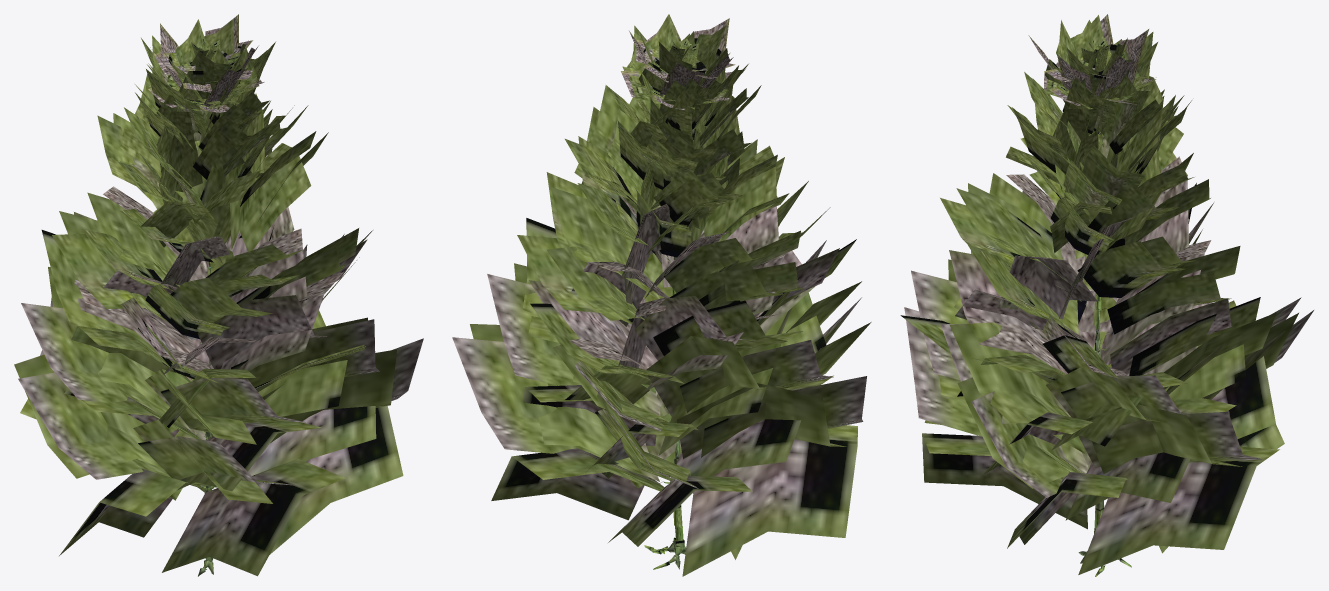
The model's file is tree_7.glb.
3 renders of one model, left to right at view 1: azimuth 30°, elevation 25°; view 2: azimuth 150°, elevation 25°; view 3: azimuth 270°, elevation 25°, orthographic.
Visible parts, largest first — view 1: Bark___S; view 2: Bark___S; view 3: Bark___S.
Part boxes in pixels (x1,y1,x2,y2): Bark___S: [14, 14, 423, 576]; Bark___S: [452, 14, 871, 576]; Bark___S: [900, 14, 1313, 576].
Size of the model in its own units: 8.88 by 12.75 by 9.02.
1 material, 1 textured.
